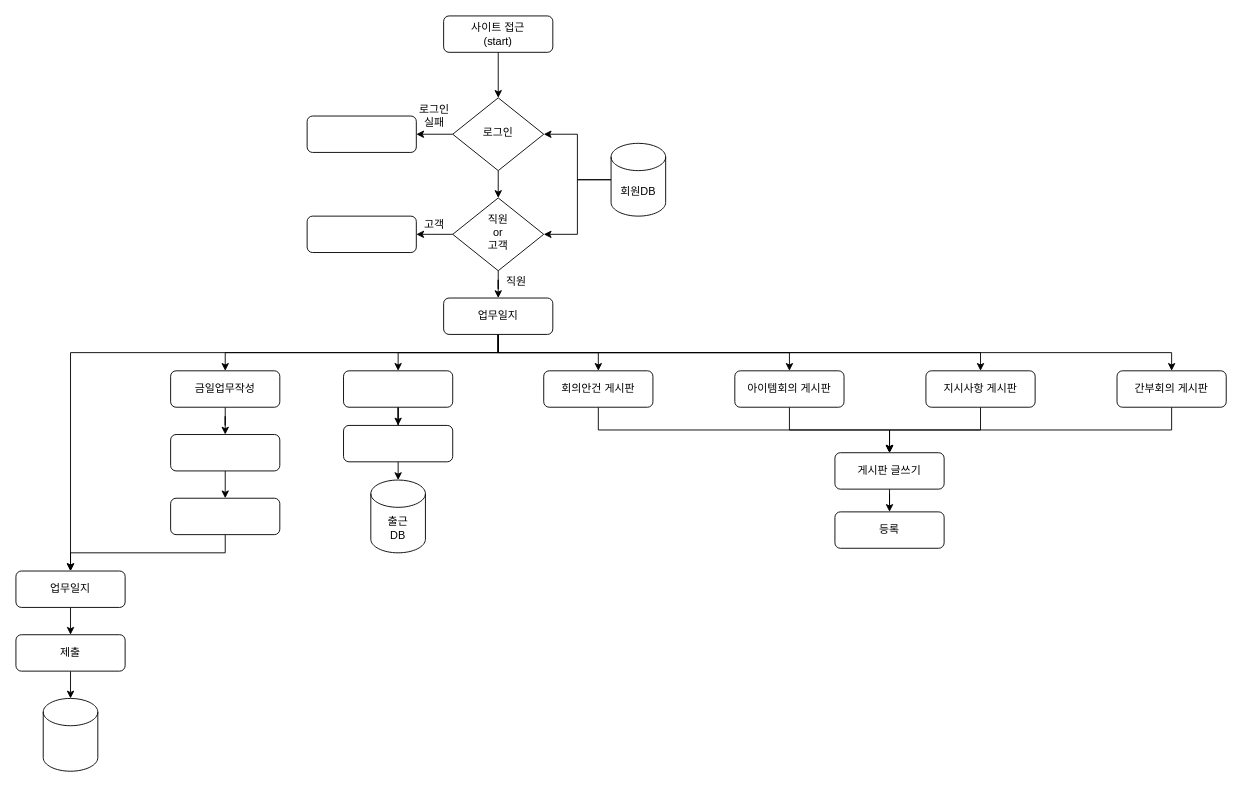
The diagram is 1242 pixels wide and 787 high, and some of its shapes have lost their labels. Here are the shapes that lost their labels. From the top down, the centre of each, then its label:
(361,133): 로그인 실패 알림
(361,234): 고객관리 페이지
(398,388): 출퇴근
(225,452): 업무일지작성
(398,443): 출퇴근 도장
(225,516): 확인
(70,734): 업무일지 DB
